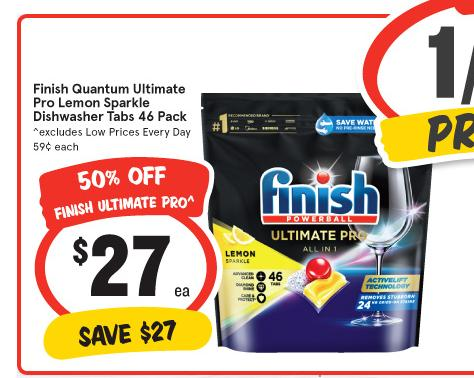description_block: (31, 77, 192, 126)
price_main: (49, 218, 210, 315)
product_image_block: (199, 89, 442, 361)
promo_text_block: (37, 309, 213, 357)
unit_price_block: (28, 136, 84, 156)
